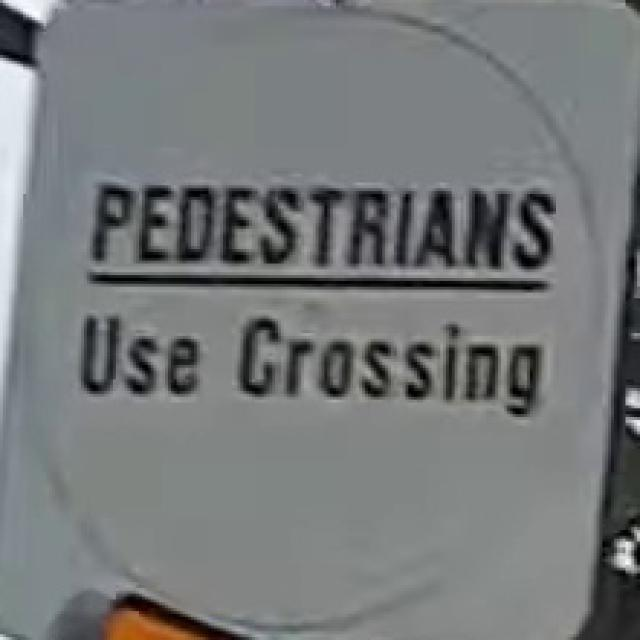pedestriancrossing_sign: (0, 0, 637, 637)
